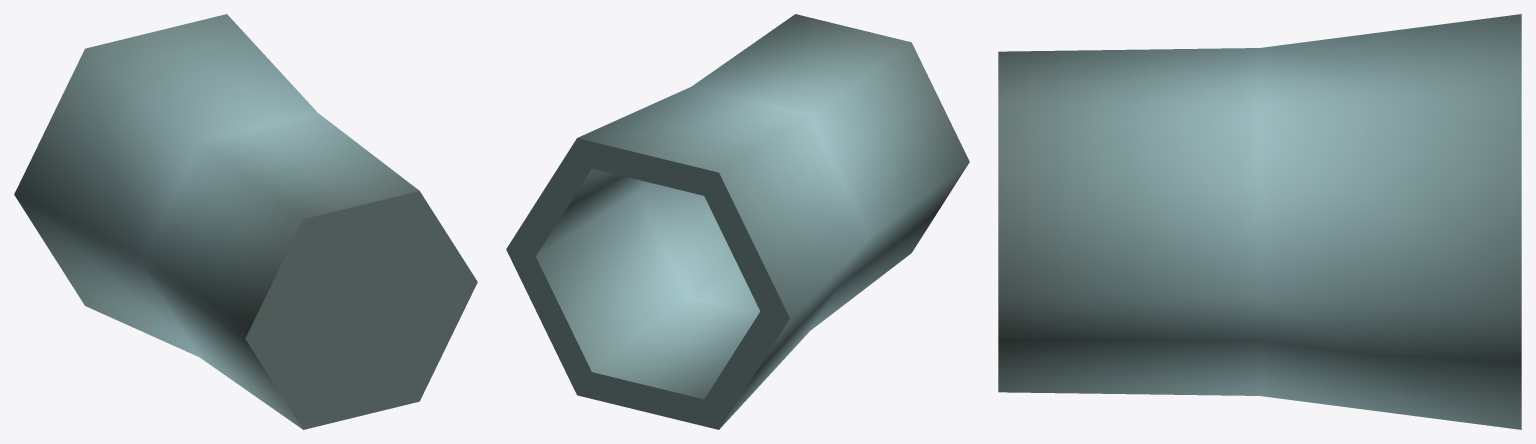
The model's file is Glass_A.fbx.
3 renders of one model, left to right at view 1: azimuth 30°, elevation 25°; view 2: azimuth 150°, elevation 25°; view 3: azimuth 270°, elevation 25°, orthographic. The views are drawn at different scales.
Parts seen in each view (by area): view 1: Glass_A; view 2: Glass_A; view 3: Glass_A.
Part boxes in pixels (x1,y1,x2,y2): Glass_A: (14,14,477,429); Glass_A: (506,14,969,429); Glass_A: (998,14,1521,429).
Bounding box in the file's own units: 0.2468 × 0.2138 × 0.3095.
